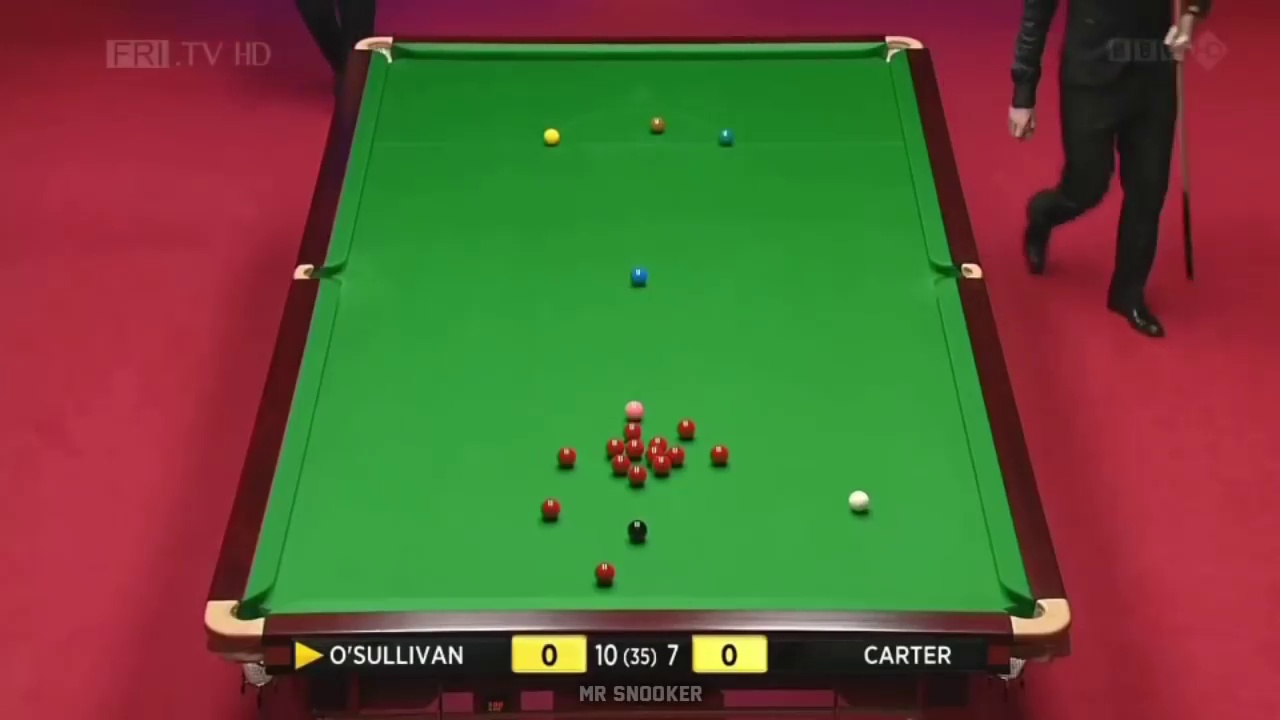black: (627, 518, 647, 541)
blue: (629, 266, 646, 286)
brown: (646, 116, 668, 131)
green: (717, 125, 735, 144)
pink: (625, 399, 643, 419)
red: (673, 417, 697, 441), (594, 563, 618, 584), (708, 444, 730, 464), (608, 458, 630, 477), (623, 439, 645, 457), (556, 447, 575, 467), (651, 456, 671, 475), (539, 500, 560, 518), (631, 467, 646, 488)
white: (845, 489, 871, 514)
yellow: (542, 127, 561, 145)
